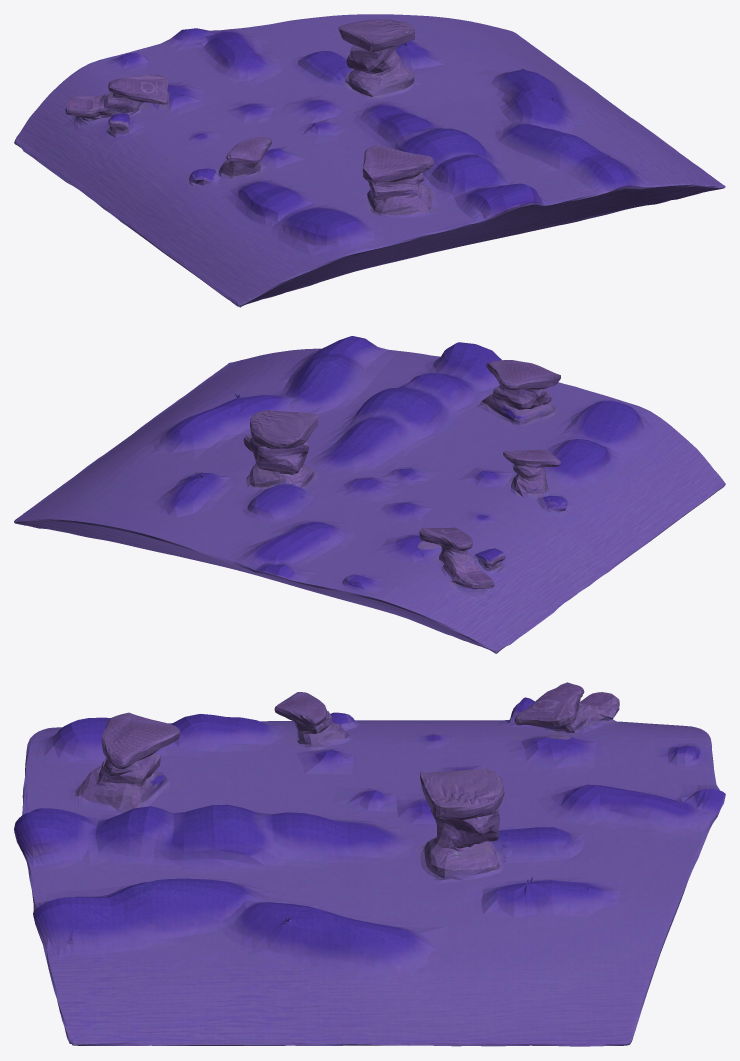
The model's file is screen.glb.
3 views of the same model, one above another, from view 1: azimuth 30°, elevation 25°; view 2: azimuth 150°, elevation 25°; view 3: azimuth 270°, elevation 25° (orthographic). The views are drawn at different scales.
Parts seen in each view (by area): view 1: tripo_node_5500ad5e-8d17-4de5-8f0b-0acf51294bc0; view 2: tripo_node_5500ad5e-8d17-4de5-8f0b-0acf51294bc0; view 3: tripo_node_5500ad5e-8d17-4de5-8f0b-0acf51294bc0.
Boxes of the visible parts, <box> form: tripo_node_5500ad5e-8d17-4de5-8f0b-0acf51294bc0: <box>14,14,725,307</box>; tripo_node_5500ad5e-8d17-4de5-8f0b-0acf51294bc0: <box>14,336,725,653</box>; tripo_node_5500ad5e-8d17-4de5-8f0b-0acf51294bc0: <box>14,682,725,1046</box>.
Bounding box in the file's own units: 3.58 × 0.7182 × 3.43.
1 material, 1 textured.
